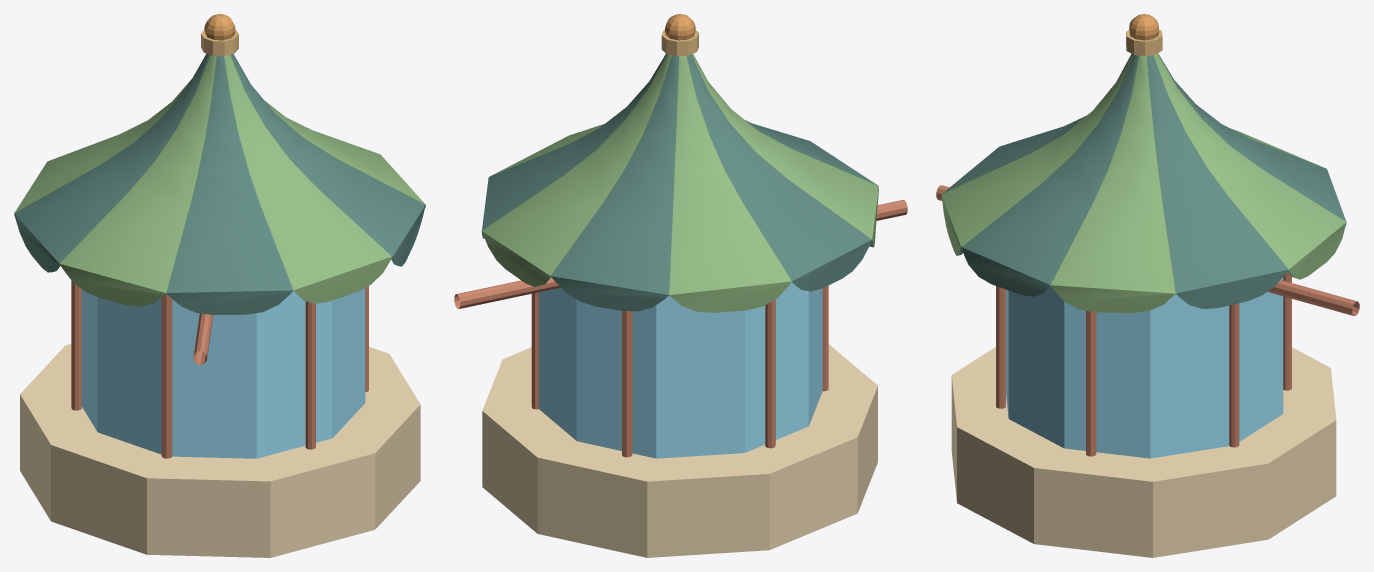
Rendered from Extras_FerrisWheelCart.fbx.
3 views of the same model, side by side, from view 1: azimuth 30°, elevation 25°; view 2: azimuth 150°, elevation 25°; view 3: azimuth 270°, elevation 25° (orthographic).
Visible parts, largest first — view 1: Extras_FerrisWheelCart; view 2: Extras_FerrisWheelCart; view 3: Extras_FerrisWheelCart.
Part boxes in pixels (x1,y1,x2,y2): Extras_FerrisWheelCart: (14,14,425,557); Extras_FerrisWheelCart: (454,14,907,557); Extras_FerrisWheelCart: (936,14,1359,557).
Size of the model in its own units: 205 by 255 by 214.
